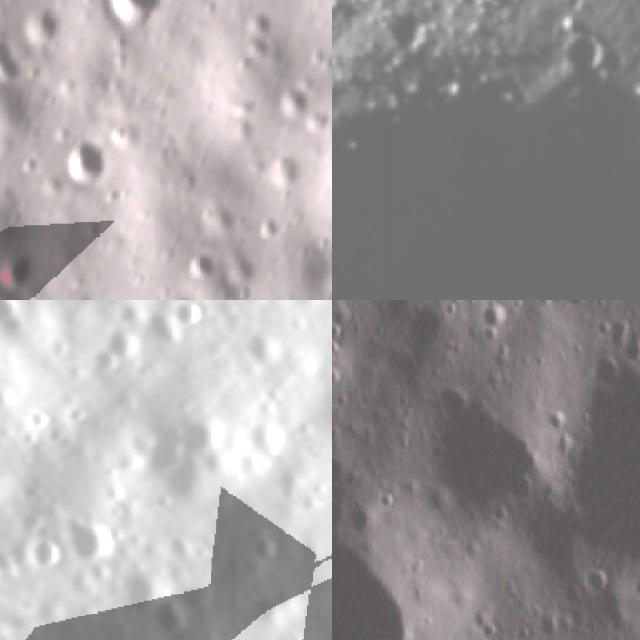crater: (427, 373, 553, 539), (545, 353, 640, 570), (332, 520, 414, 640), (57, 500, 123, 572), (106, 562, 166, 619), (56, 134, 116, 190), (268, 77, 324, 126), (559, 21, 608, 76), (15, 530, 71, 578), (146, 589, 198, 640), (404, 302, 455, 352), (388, 4, 442, 50), (20, 1, 66, 46), (0, 31, 31, 95), (179, 246, 230, 284), (104, 0, 165, 30), (0, 248, 37, 295), (166, 300, 213, 335), (473, 300, 516, 338), (0, 300, 26, 339), (550, 300, 588, 315), (332, 360, 341, 395)
